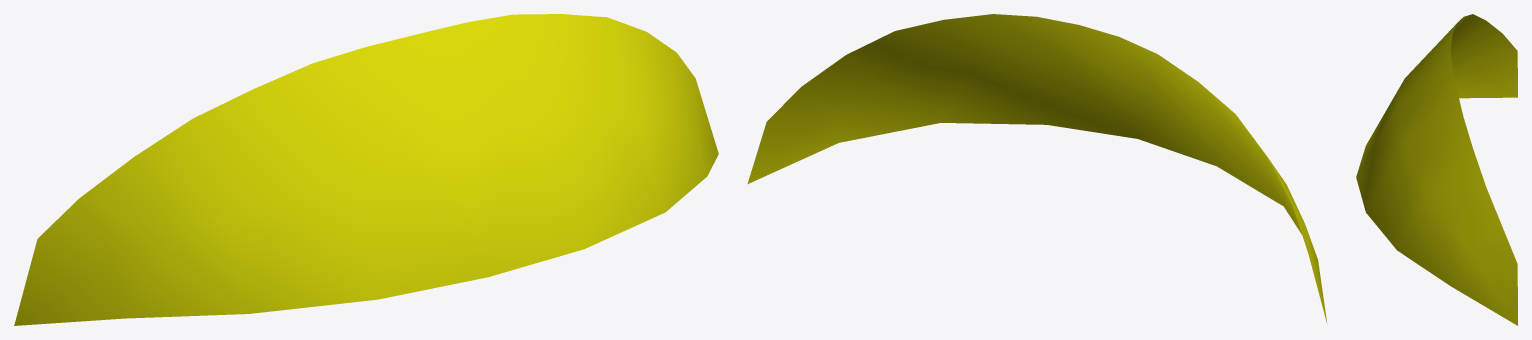
Rendered from Forehead1_117.glb.
3 renders of one model, left to right at view 1: azimuth 30°, elevation 25°; view 2: azimuth 150°, elevation 25°; view 3: azimuth 270°, elevation 25°, orthographic. The views are drawn at different scales.
Size of the model in its own units: 48 by 15.8 by 14.37.
